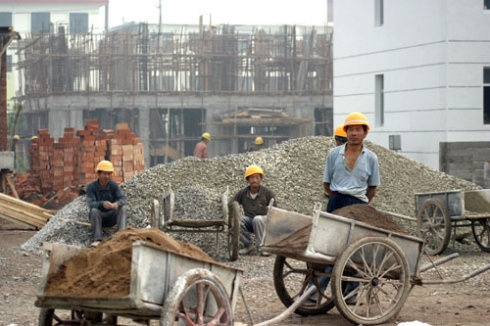yellow: (343, 111, 370, 145), (242, 163, 263, 188), (93, 160, 114, 183), (333, 126, 348, 146), (254, 135, 263, 148), (200, 132, 209, 143)
